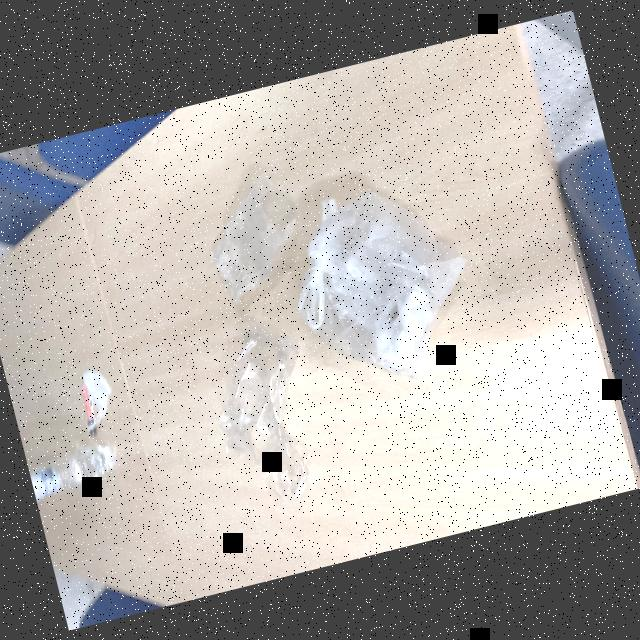plastic_bag: (277, 166, 501, 416), (180, 169, 320, 322)
